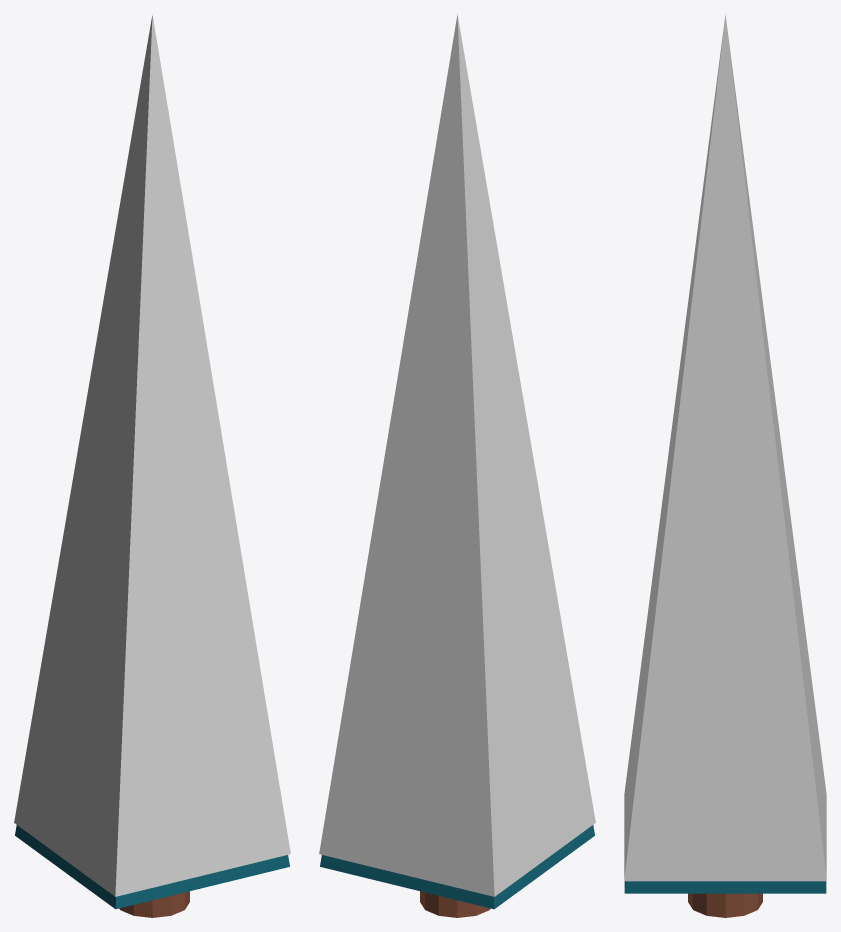
File: Tree_19_winter_gradient_blue.fbx
3 views of the same model, side by side, from view 1: azimuth 30°, elevation 25°; view 2: azimuth 150°, elevation 25°; view 3: azimuth 270°, elevation 25° (orthographic).
Visible parts, largest first — view 1: Tree_19_winter_gradient_blue; view 2: Tree_19_winter_gradient_blue; view 3: Tree_19_winter_gradient_blue.
Part boxes in pixels (x1,y1,x2,y2): Tree_19_winter_gradient_blue: (14,14,290,917); Tree_19_winter_gradient_blue: (319,14,595,917); Tree_19_winter_gradient_blue: (624,14,826,917).
Bounding box in the file's own units: 60.03 × 290 × 60.03.
